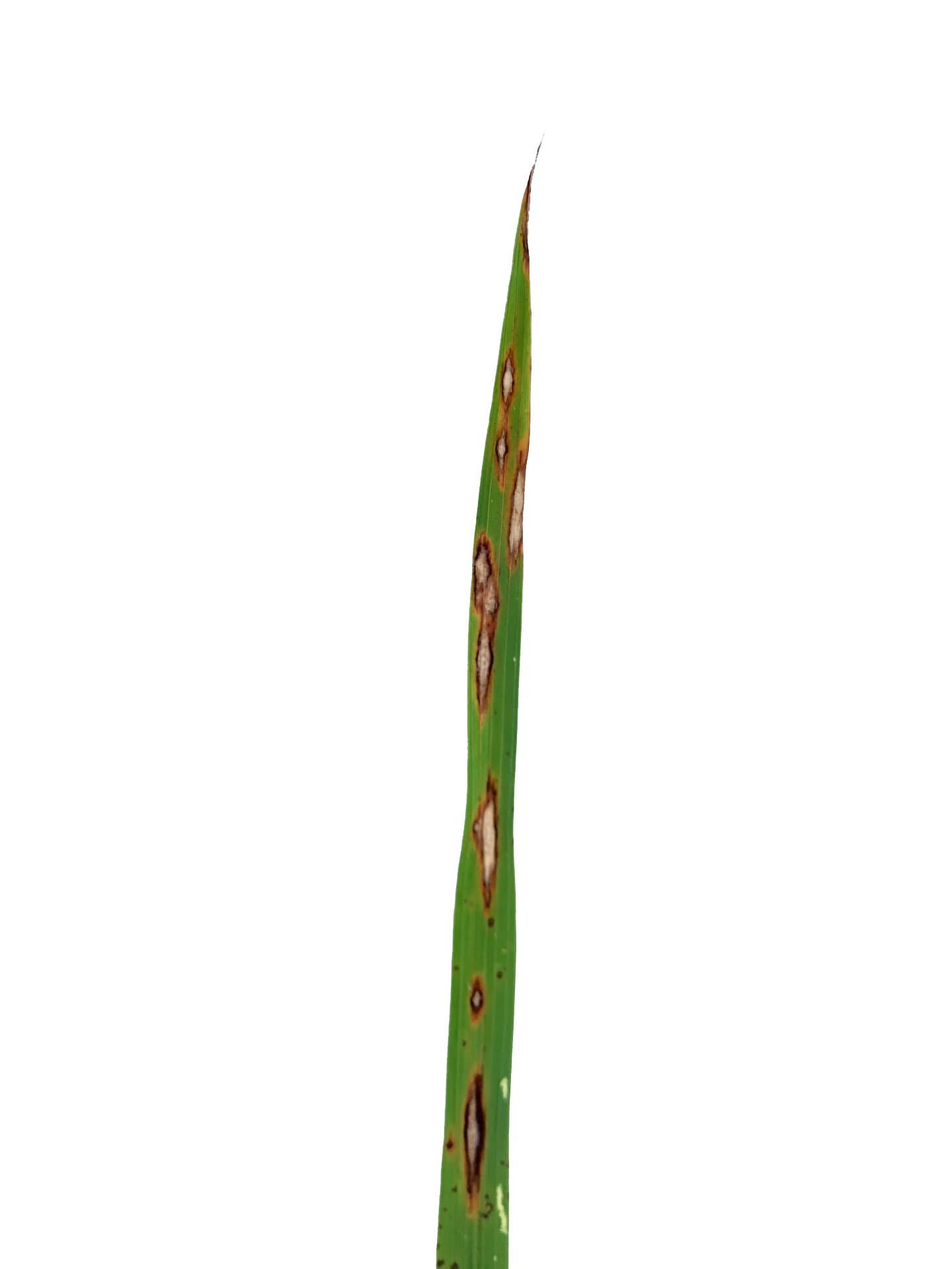Rice blast: (458, 1059, 491, 1207), (474, 531, 497, 724), (476, 775, 501, 908), (512, 446, 527, 566), (502, 351, 519, 410), (495, 424, 510, 488), (469, 979, 481, 1018)
